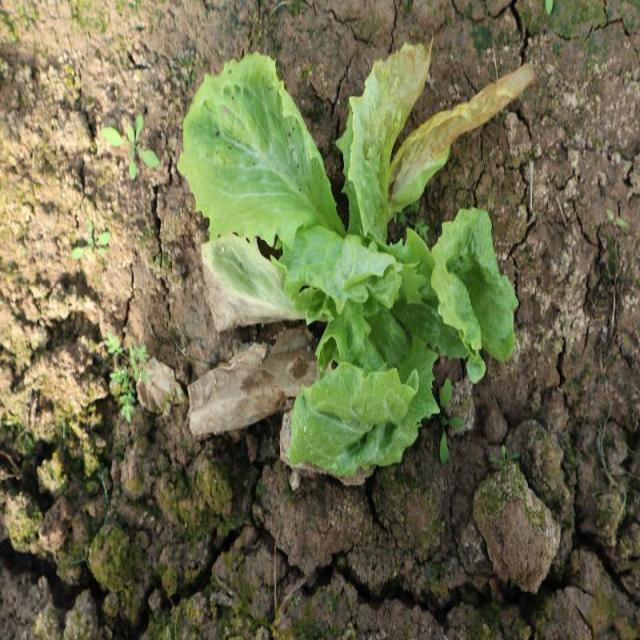crop: (176, 47, 520, 488)
